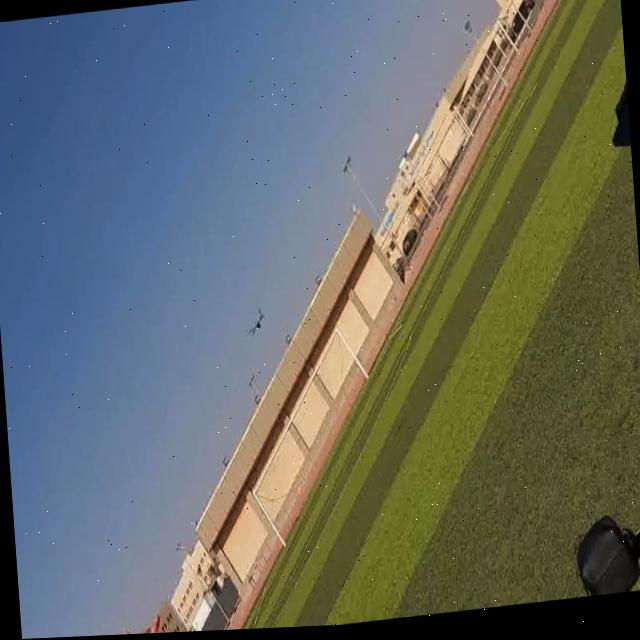drone: (238, 293, 270, 338)
